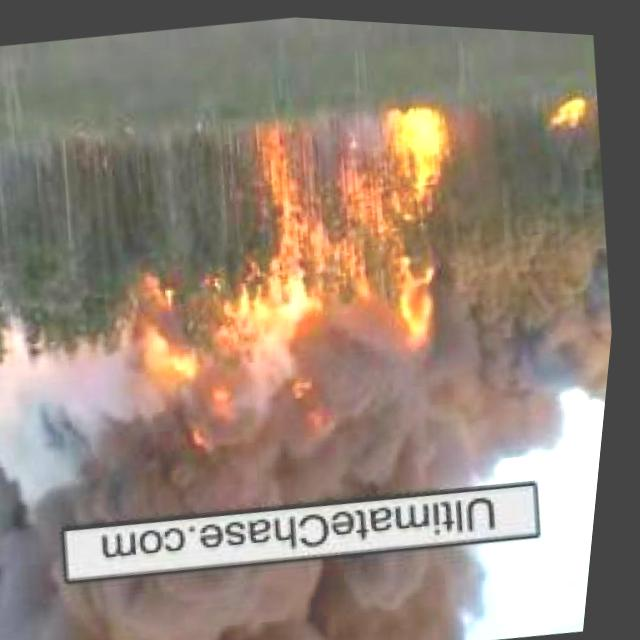Fire: (227, 88, 491, 406), (117, 262, 262, 460), (543, 89, 592, 128)
Smoke: (0, 339, 614, 565), (0, 503, 519, 640)
